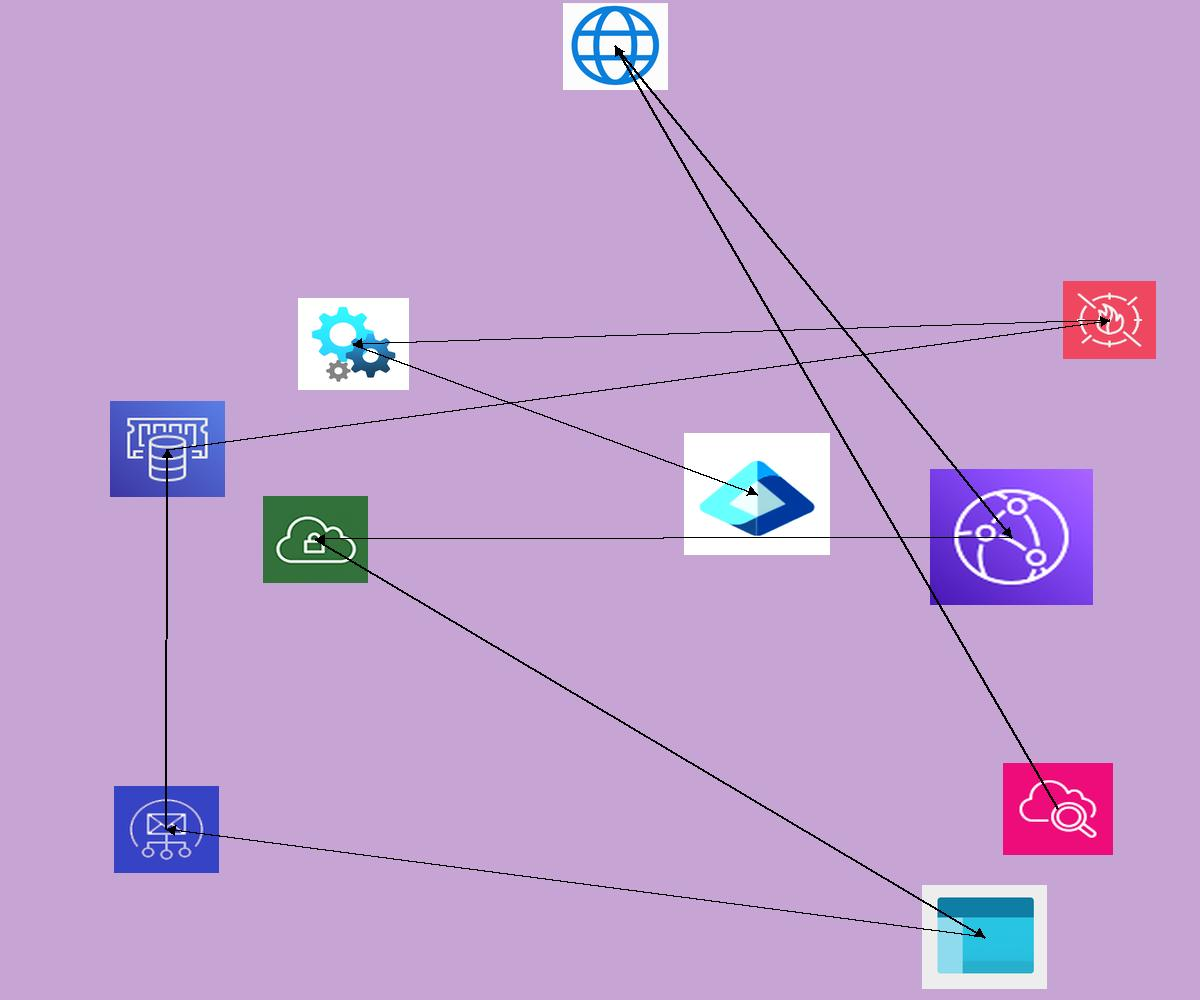AWS-CloudFront: (930, 469, 1093, 605)
AWS-CloudWatch: (1003, 763, 1113, 855)
AWS-ElastiCache: (110, 401, 225, 497)
AWS-Private_vpc: (263, 496, 368, 583)
AWS-Simple-Email-Service: (114, 786, 219, 873)
AWS-WAF: (1063, 281, 1156, 359)
Azure_api: (298, 298, 409, 390)
Azure_http: (563, 3, 668, 90)
Azure_management-portal: (922, 885, 1047, 989)
Azure_microsoft_entra: (684, 433, 830, 555)
